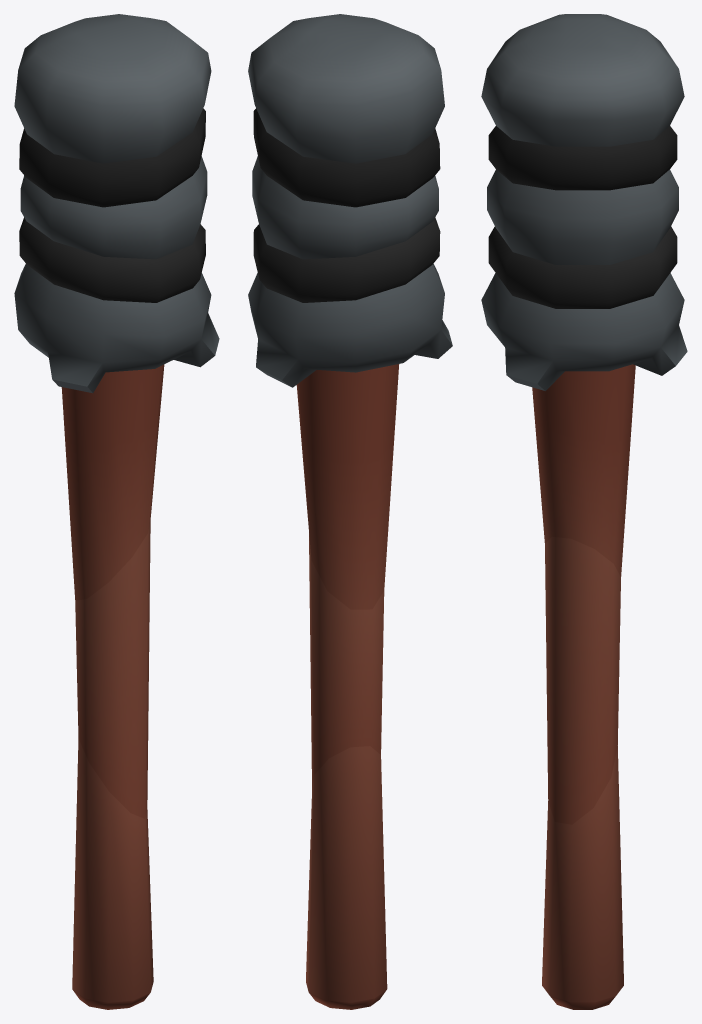
File: torch_burnt.obj
3 views of the same model, side by side, from view 1: azimuth 30°, elevation 25°; view 2: azimuth 150°, elevation 25°; view 3: azimuth 270°, elevation 25° (orthographic).
Visible parts, largest first — view 1: torch_burnt; view 2: torch_burnt; view 3: torch_burnt.
Part boxes in pixels (x1,y1,x2,y2): torch_burnt: (14,14,219,1009); torch_burnt: (248,14,452,1009); torch_burnt: (481,14,687,1009).
Bounding box in the file's own units: 0.2109 × 1.17 × 0.2254.
Materials: 1 (1 with a texture image).
